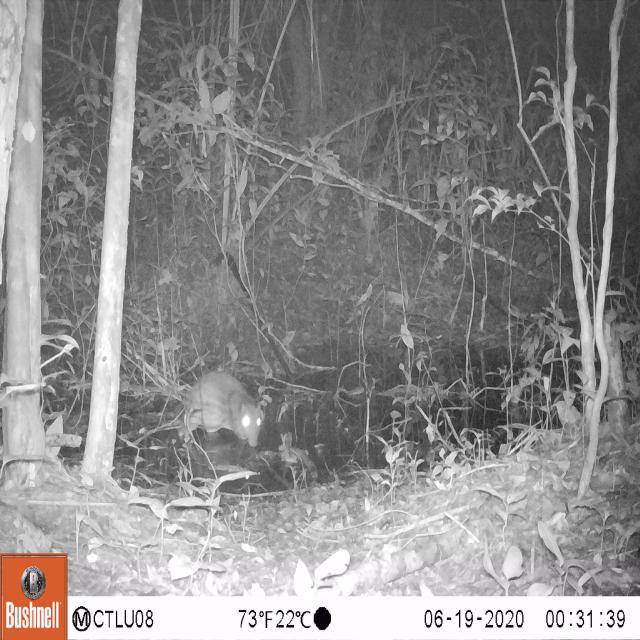Spotted Paca: (160, 363, 277, 459)
